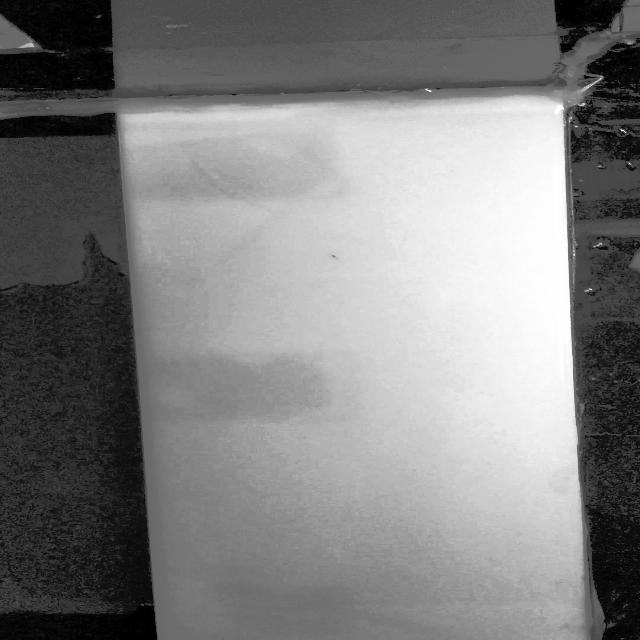shrimp: (323, 248, 356, 262)
